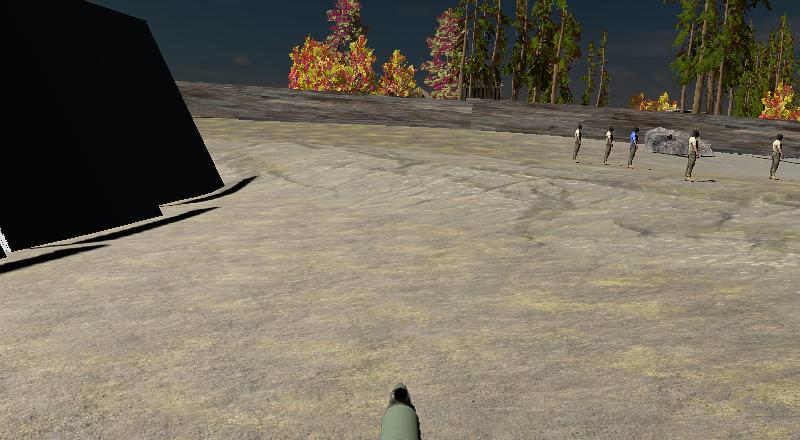Human: (682, 128, 704, 184), (766, 131, 787, 183), (569, 120, 586, 165), (600, 124, 617, 167), (625, 125, 641, 170)
